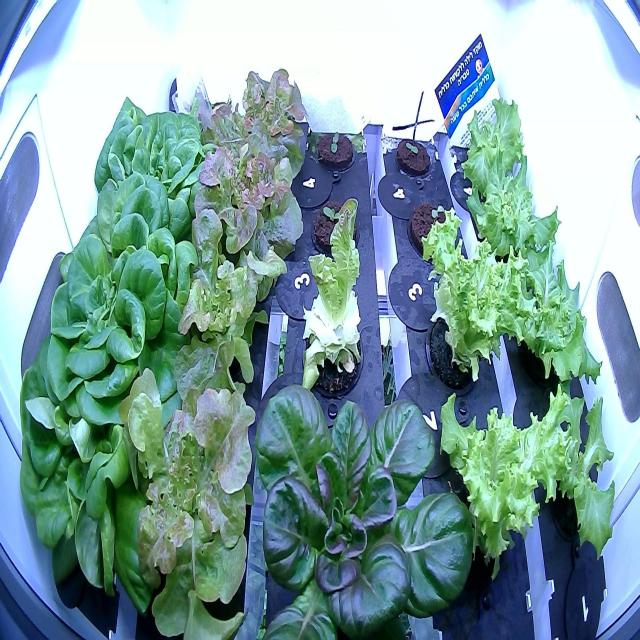Ready: (15, 334, 173, 620), (32, 230, 208, 443), (52, 170, 206, 307), (86, 82, 218, 219)
germination: (404, 185, 464, 258), (304, 190, 365, 254), (310, 114, 363, 177), (392, 122, 437, 184)
young: (246, 358, 482, 640)
